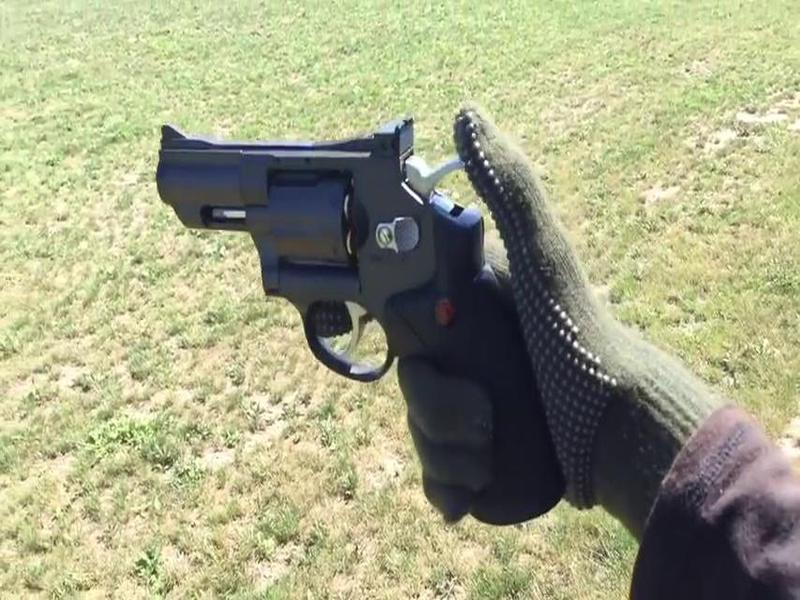Revolver: (147, 88, 572, 539)
